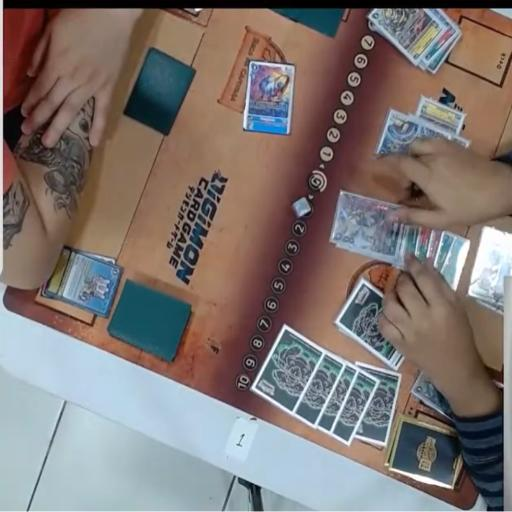card: (371, 106, 469, 172), (324, 190, 410, 259), (44, 246, 123, 317), (368, 0, 442, 67), (244, 60, 300, 136), (466, 219, 512, 300), (406, 365, 456, 420), (422, 226, 454, 296), (415, 95, 467, 135), (420, 26, 460, 70), (418, 219, 443, 285), (442, 235, 470, 292), (399, 211, 425, 272), (409, 212, 434, 275), (430, 33, 460, 78)
